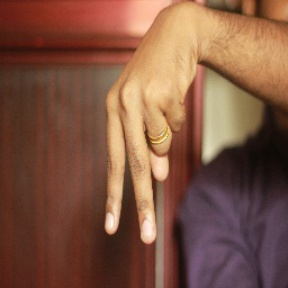Y: (98, 64, 196, 248)
